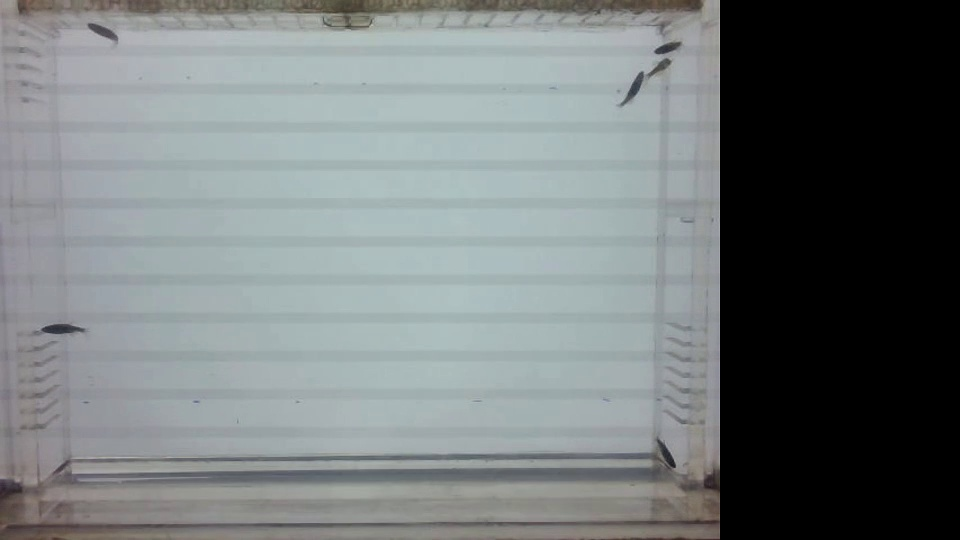fish: (642, 424, 680, 476), (81, 17, 129, 49), (604, 70, 644, 100), (37, 320, 85, 344), (648, 36, 686, 56), (644, 60, 673, 80)
